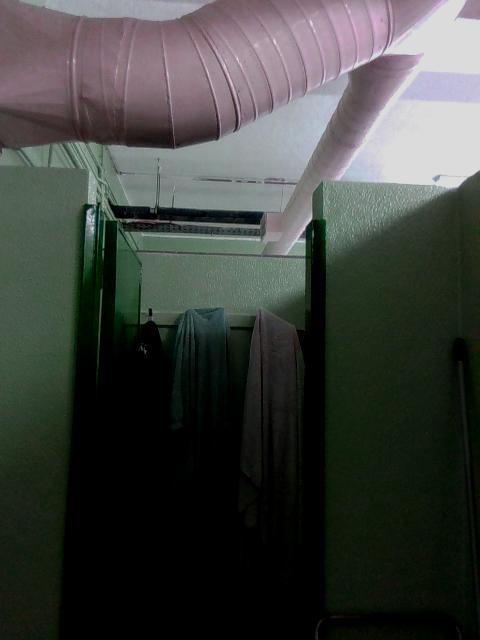open_door: (63, 222, 324, 610)
